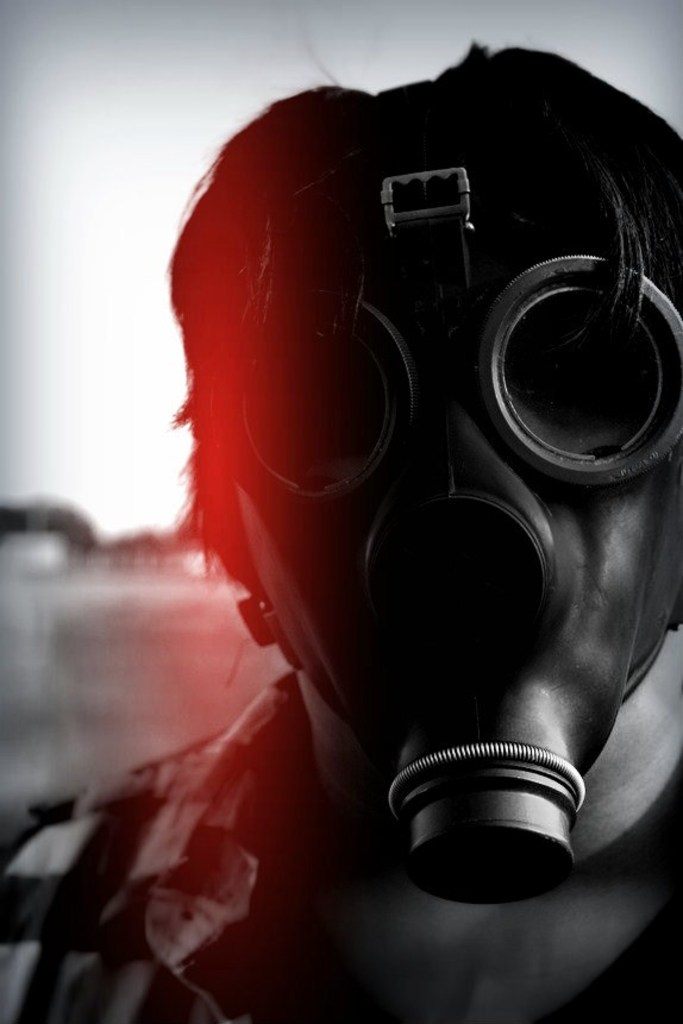Person: (0, 33, 683, 1024)
